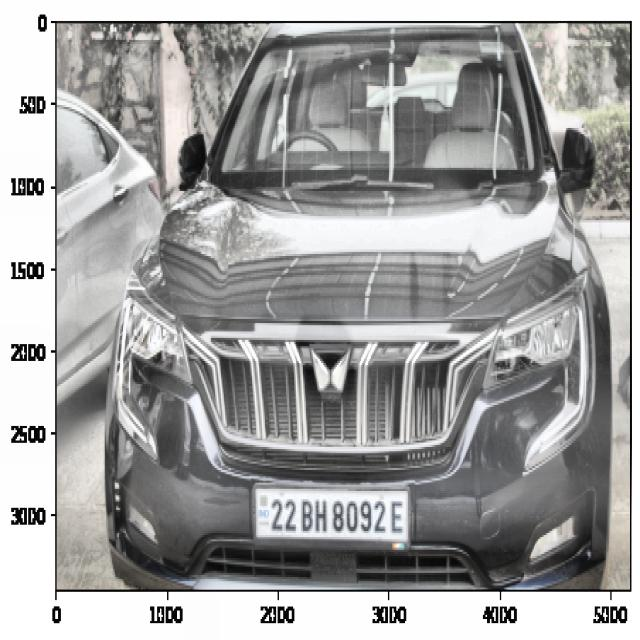license_plate: (266, 483, 409, 545)
